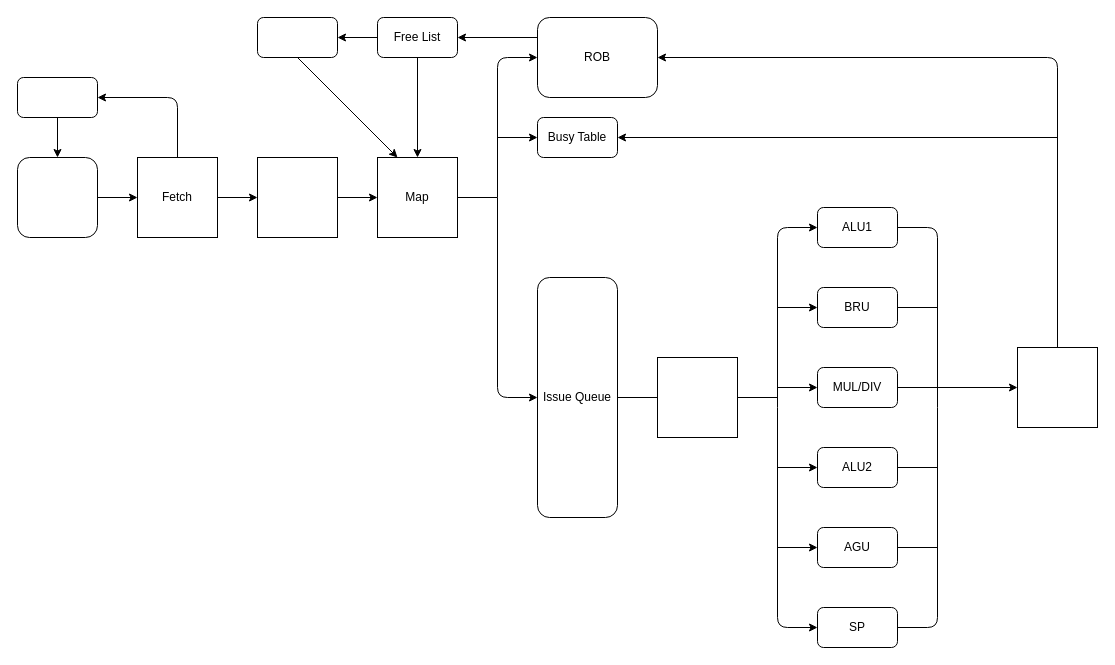
The diagram is 1115 pixels wide and 665 high, and some of its shapes have lost their labels. The centre of each missing label's shape, as x and y in pixels:
"BPU" belongs at pixel 57 97.
"Decode" belongs at pixel 297 197.
"ICache" belongs at pixel 57 197.
"RAT" belongs at pixel 297 37.
"Read RegFile" belongs at pixel 697 397.
"write back" belongs at pixel 1057 387.
